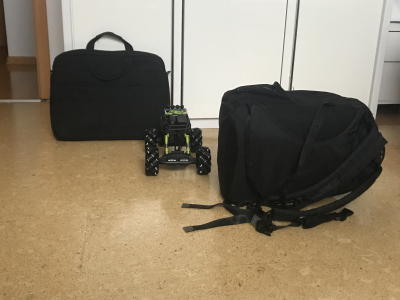remote control car: (141, 100, 212, 178)
